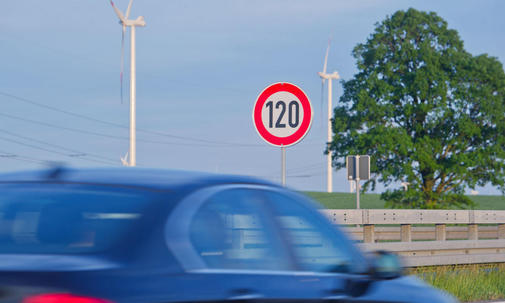Speed_limit_120km: (250, 80, 313, 147)
